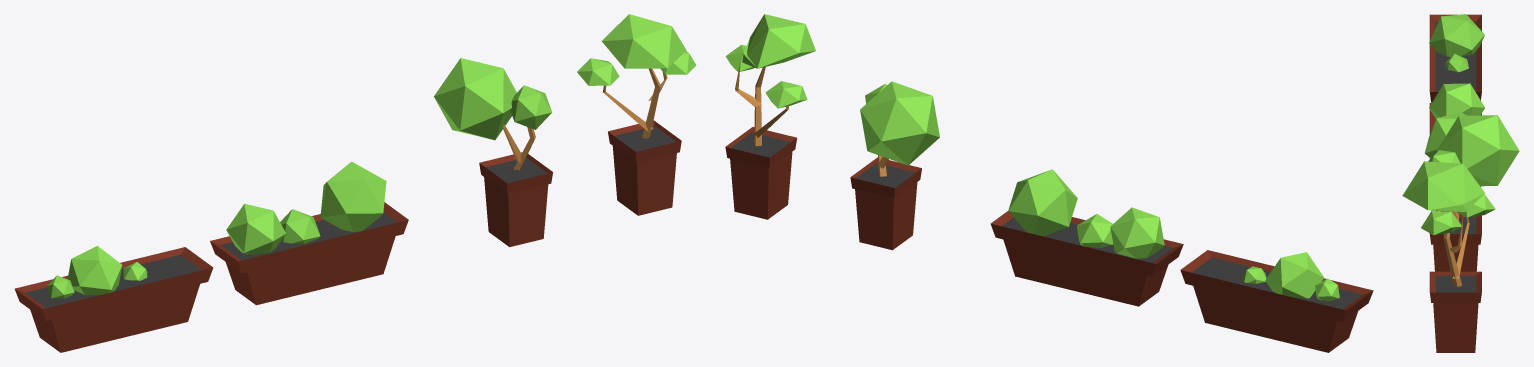
The model's file is BUILDING PLANTS S.fbx.
3 renders of one model, left to right at view 1: azimuth 30°, elevation 25°; view 2: azimuth 150°, elevation 25°; view 3: azimuth 270°, elevation 25°, orthographic. The views are drawn at different scales.
Visible parts, largest first — view 1: BUILDING PLANT 1, BUILDING PLANT 2, BUILDING PLANT 3, BUILDING PLANT 4; view 2: BUILDING PLANT 1, BUILDING PLANT 2, BUILDING PLANT 3, BUILDING PLANT 4; view 3: BUILDING PLANT 4, BUILDING PLANT 3, BUILDING PLANT 2, BUILDING PLANT 1.
Part boxes in pixels (x1,y1,x2,y2): BUILDING PLANT 1: (210, 161, 408, 305); BUILDING PLANT 2: (14, 246, 213, 352); BUILDING PLANT 3: (434, 58, 552, 247); BUILDING PLANT 4: (577, 14, 696, 215); BUILDING PLANT 1: (990, 169, 1183, 306); BUILDING PLANT 2: (1180, 250, 1373, 352); BUILDING PLANT 3: (850, 81, 939, 250); BUILDING PLANT 4: (725, 14, 815, 219); BUILDING PLANT 4: (1402, 161, 1495, 352); BUILDING PLANT 3: (1428, 115, 1519, 271); BUILDING PLANT 2: (1429, 14, 1484, 102); BUILDING PLANT 1: (1424, 83, 1484, 211).
Size of the model in its own units: 677 by 187 by 113.
